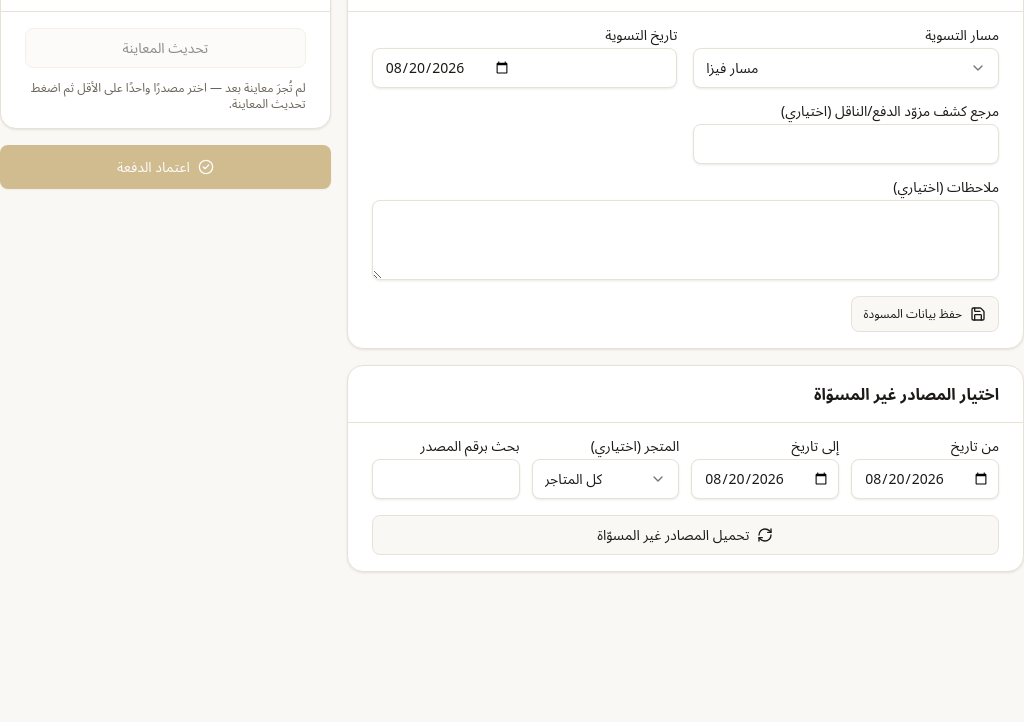
Test: SettlementDraftWorkspace — sign-convention pass-through (source list + preview) › renders every source row's expected_settlement_impact EXACTLY as returned — sale positive, return negative, adjustment positive, adjustment-reversal negative —
What coordinates should you click on to do the following:
click the button "تحميل المصادر غير المسوّاة"
I would click on:
 (685, 535)
Its box is [372,515,999,555].
(page scrolled)
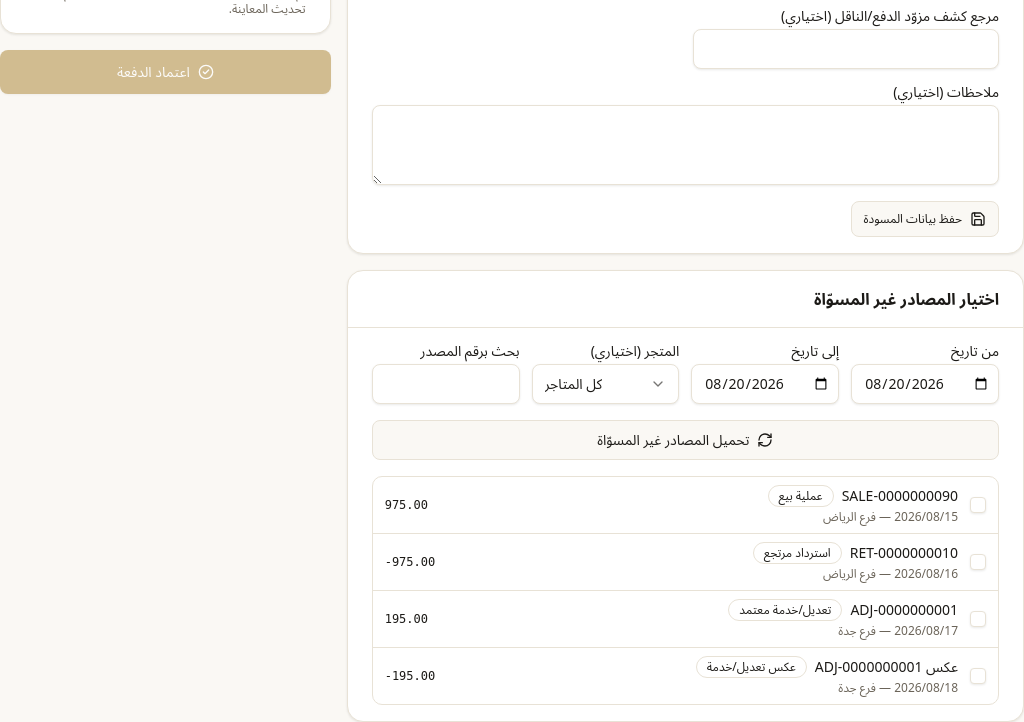
Expected: the text "SALE-0000000090" is shown, [842,486,958,505]
Expected: the text "975.00" is shown, [385,497,428,513]
Expected: the text "-975.00" is shown, [385,554,435,570]
